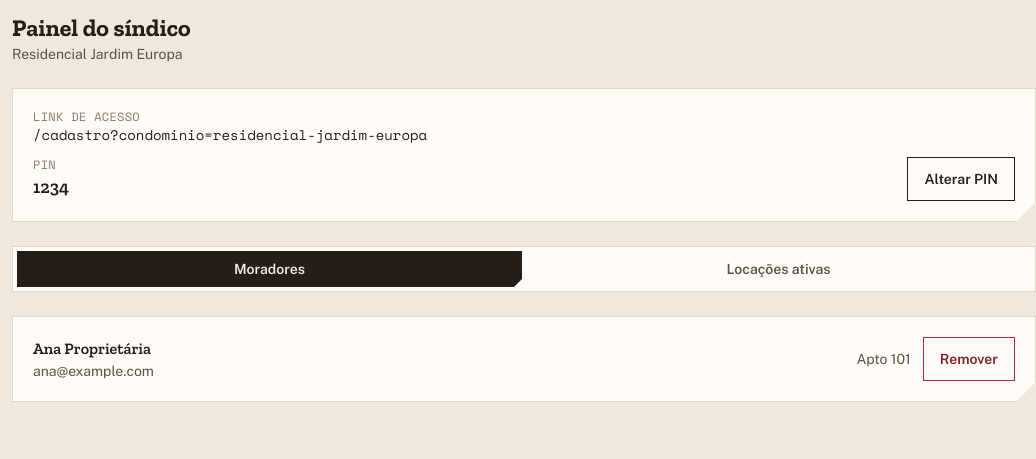
SindicoPage › remove um morador após confirmação
Check: the text "Ana Proprietária" is shown, box [33, 337, 154, 361]
Click the button "Remover".
click(969, 359)  # box [923, 337, 1015, 381]
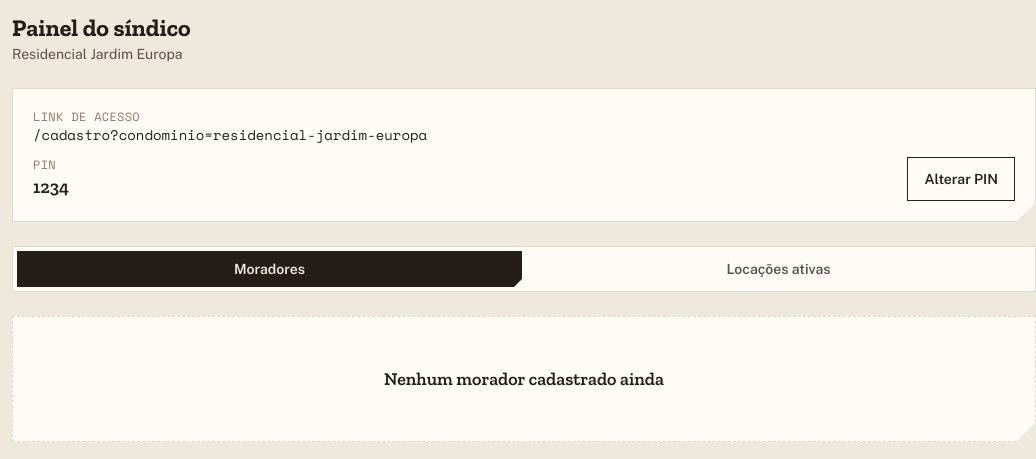
Check: the text "Ana Proprietária" is gone
